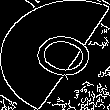O_SE: (13, 24, 97, 86)
